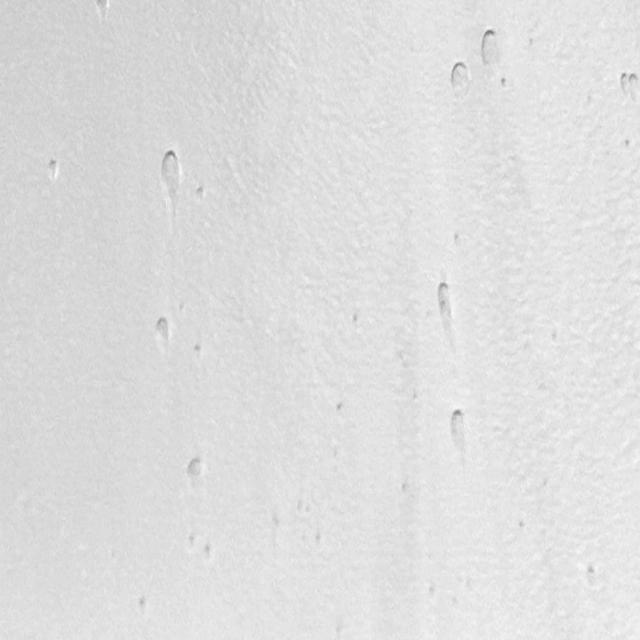pin holes: (157, 146, 185, 202), (432, 280, 457, 328), (446, 407, 472, 449), (185, 452, 211, 488), (449, 60, 474, 97), (478, 28, 502, 63), (150, 314, 174, 348), (617, 69, 640, 100), (583, 564, 605, 592), (43, 156, 63, 182), (91, 0, 113, 22), (449, 228, 468, 251), (350, 310, 368, 332), (193, 184, 209, 204), (135, 594, 151, 614), (202, 542, 215, 562), (312, 531, 325, 550), (187, 533, 200, 552), (334, 401, 348, 418), (399, 481, 413, 497), (622, 136, 635, 152), (193, 342, 206, 358), (500, 75, 513, 91), (518, 517, 526, 531)
